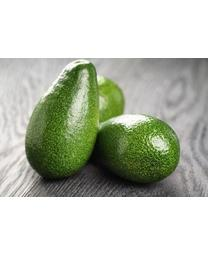avocado: (24, 60, 98, 179), (92, 113, 179, 184)
